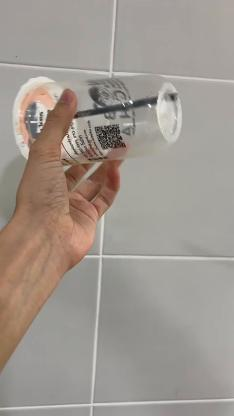Plastic Cup: (14, 77, 184, 163)
